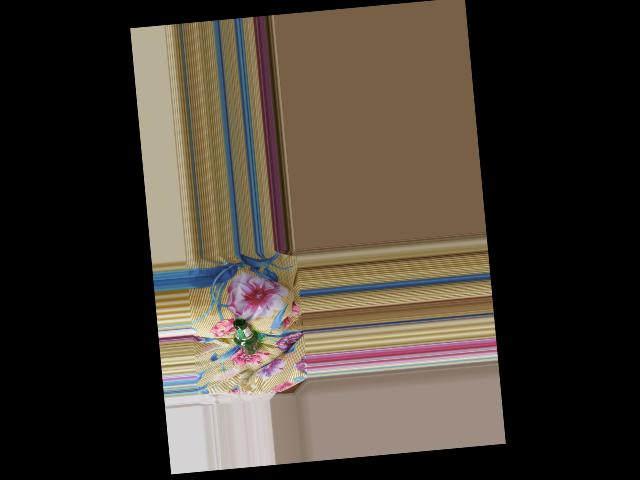beer: (232, 316, 259, 355)
